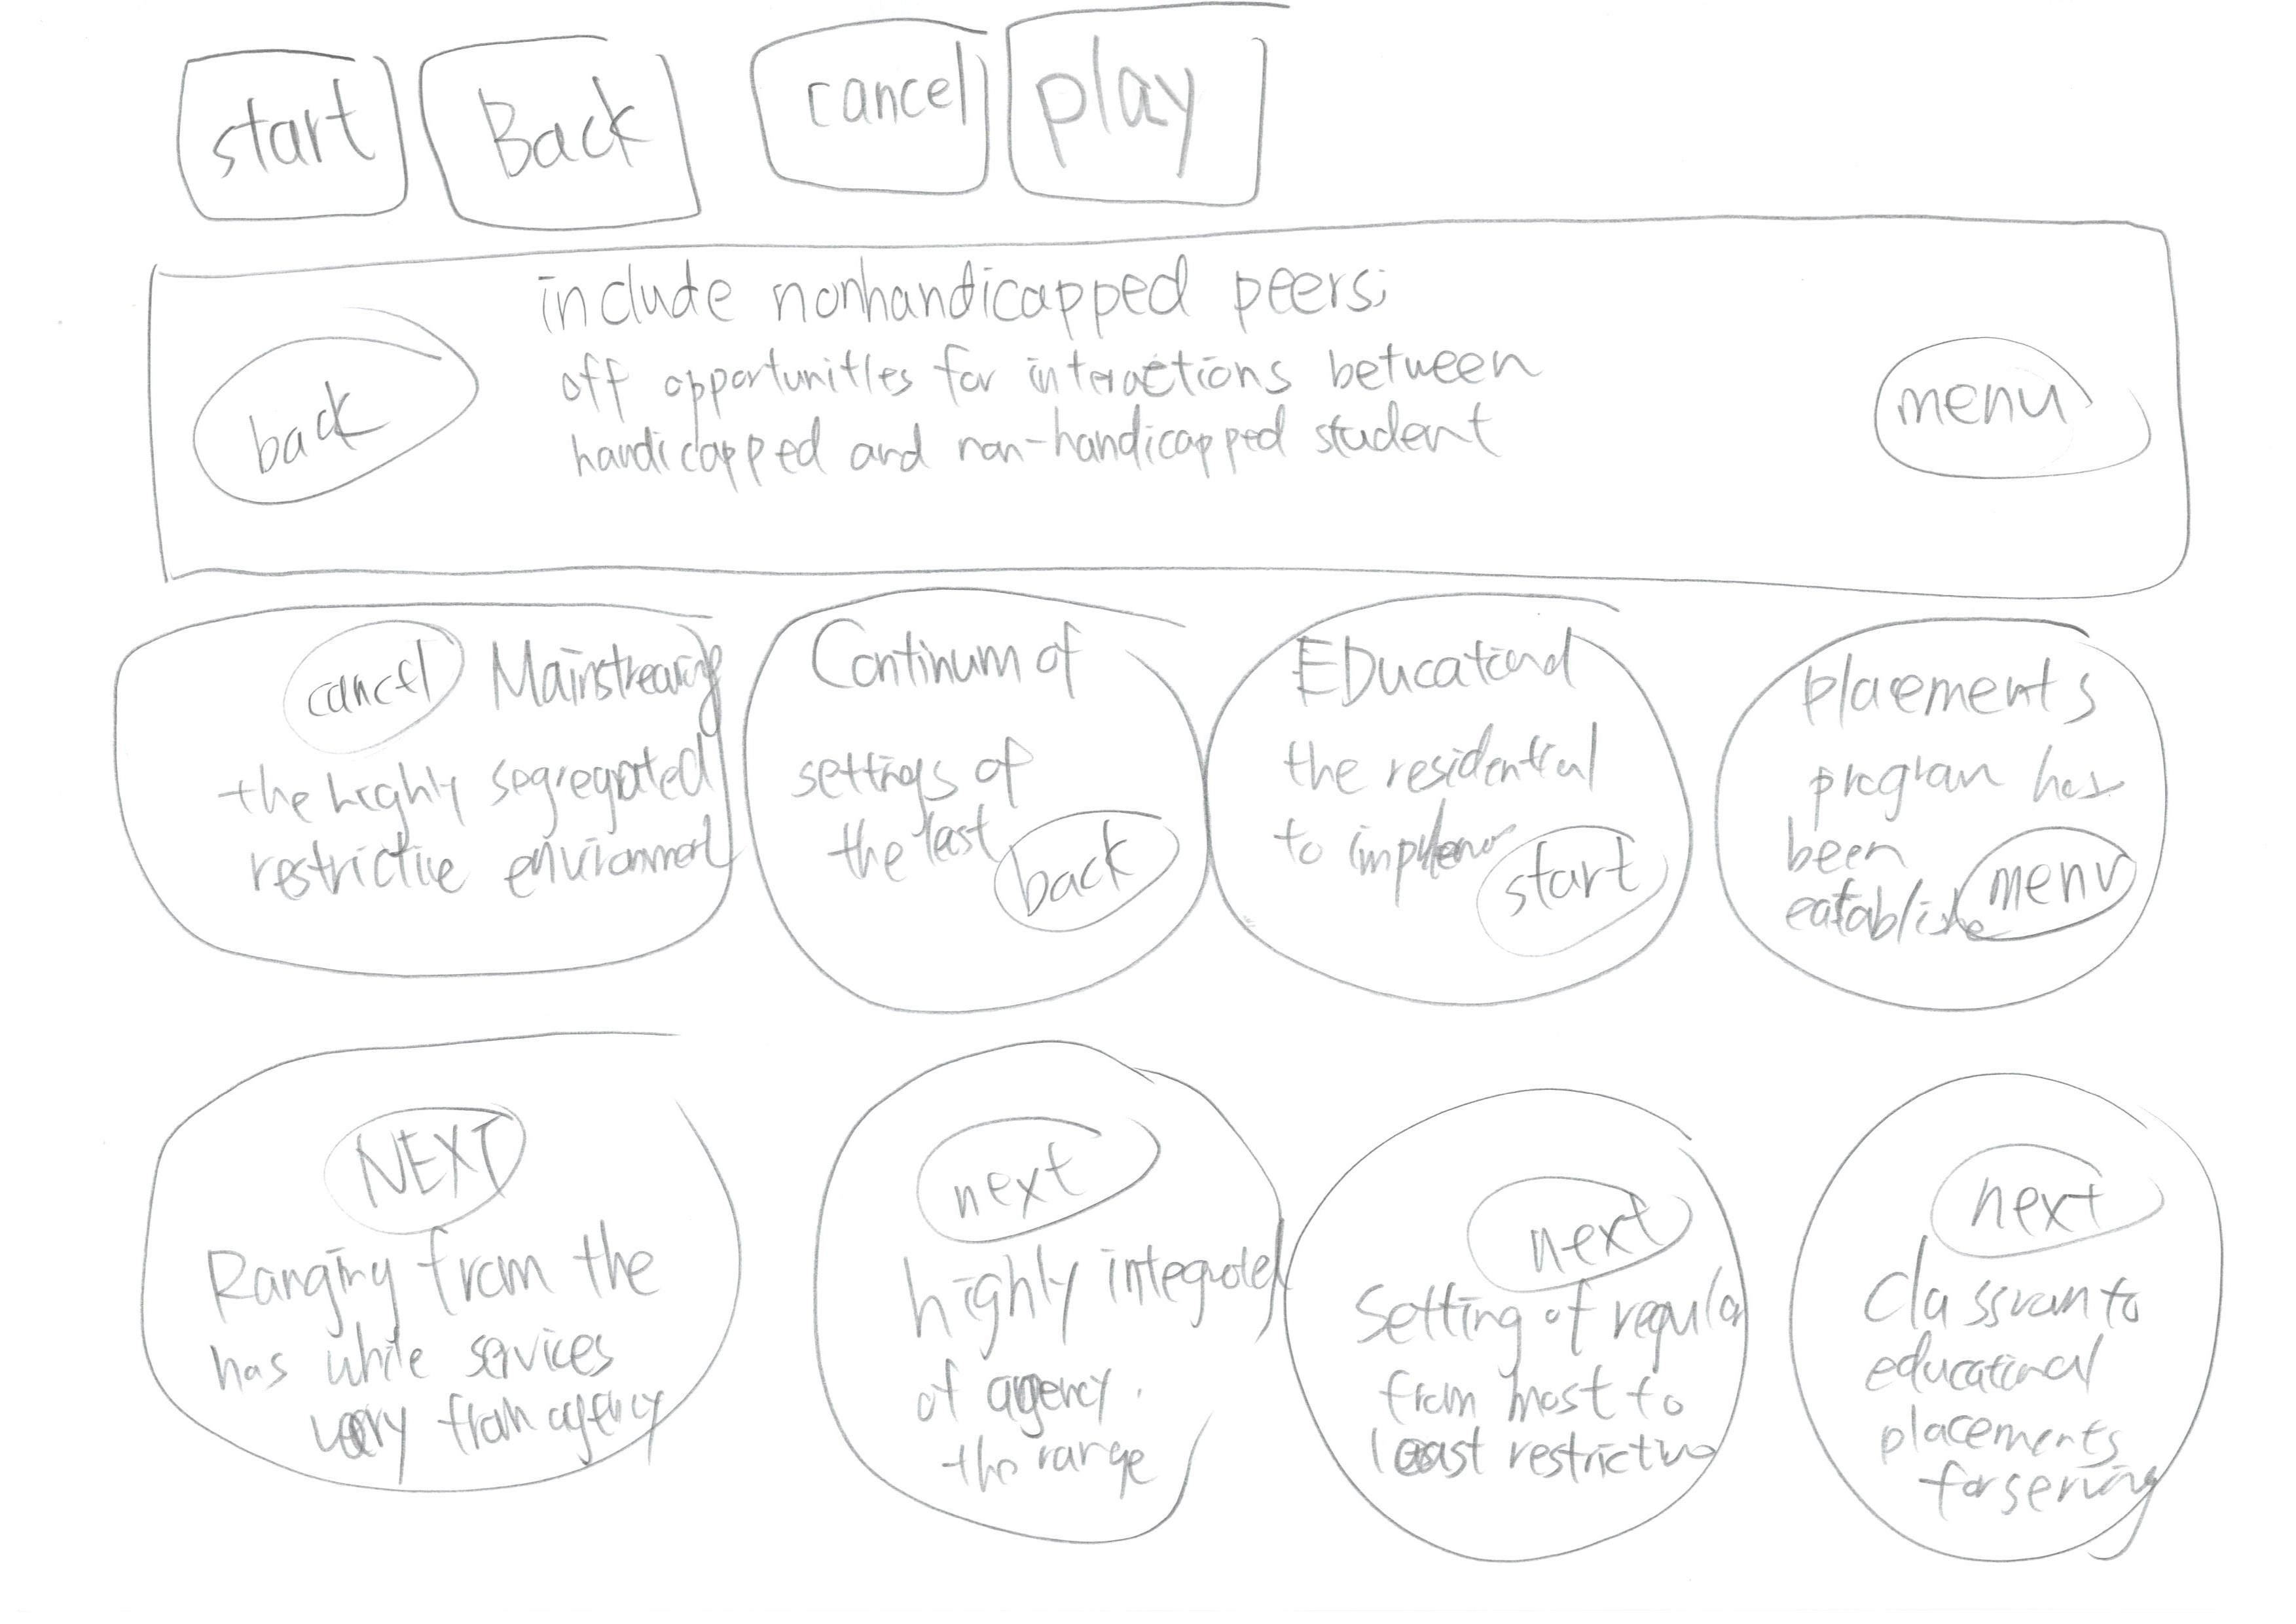back: (406, 0, 742, 244), (171, 299, 501, 531), (976, 786, 1204, 942)
cancel: (703, 7, 1011, 225), (250, 599, 496, 759)
menu: (1832, 318, 2189, 506), (1939, 812, 2155, 946)
next: (907, 1081, 1206, 1251), (1906, 1118, 2175, 1267), (316, 1095, 573, 1246), (1433, 1164, 1700, 1299)
play: (997, 4, 1340, 228)
quadruple: (63, 1004, 747, 1529), (752, 1018, 1301, 1584), (1747, 1044, 2296, 1610), (1238, 1032, 1786, 1596), (77, 554, 749, 1011), (1665, 585, 2219, 1040), (1187, 573, 1740, 1026), (744, 564, 1225, 1012)
row: (21, 998, 2296, 1624), (7, 510, 2296, 1079), (58, 192, 2296, 610), (39, 0, 2296, 290)
single: (120, 169, 2217, 615)
small-title: (510, 276, 1401, 323), (916, 1225, 1259, 1341), (197, 1250, 649, 1322), (1352, 1269, 1732, 1350), (1869, 1260, 2157, 1338), (1297, 624, 1559, 705), (1784, 663, 2122, 721), (515, 636, 723, 721), (918, 615, 1078, 715)
start: (139, 14, 424, 251), (1449, 814, 1672, 947)
text: (566, 341, 1542, 513), (195, 1315, 666, 1471), (211, 754, 726, 896), (1841, 1345, 2168, 1555), (1361, 1367, 1721, 1506), (905, 1355, 1210, 1512), (796, 728, 1023, 888), (1790, 749, 1960, 960), (1283, 738, 1482, 898), (1846, 740, 2152, 814), (1290, 729, 1595, 796)
